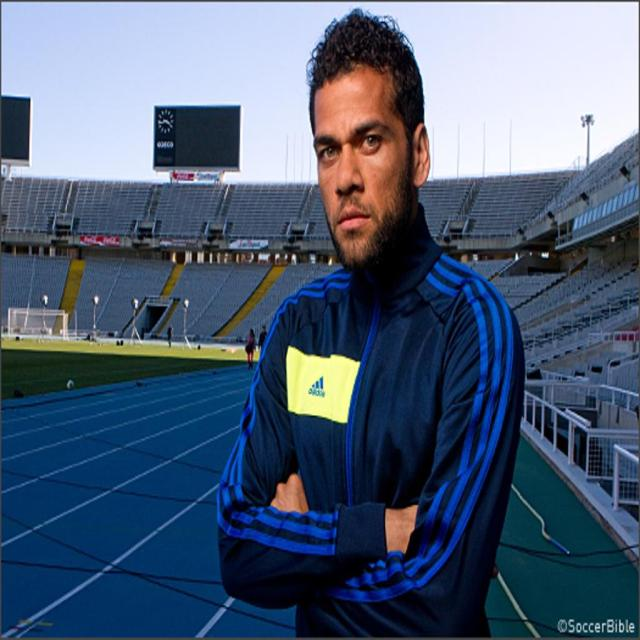Face: (308, 83, 413, 268)
